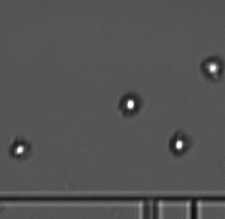Living Cell: (201, 57, 223, 81), (120, 94, 140, 116), (170, 132, 188, 156), (9, 140, 29, 158)
